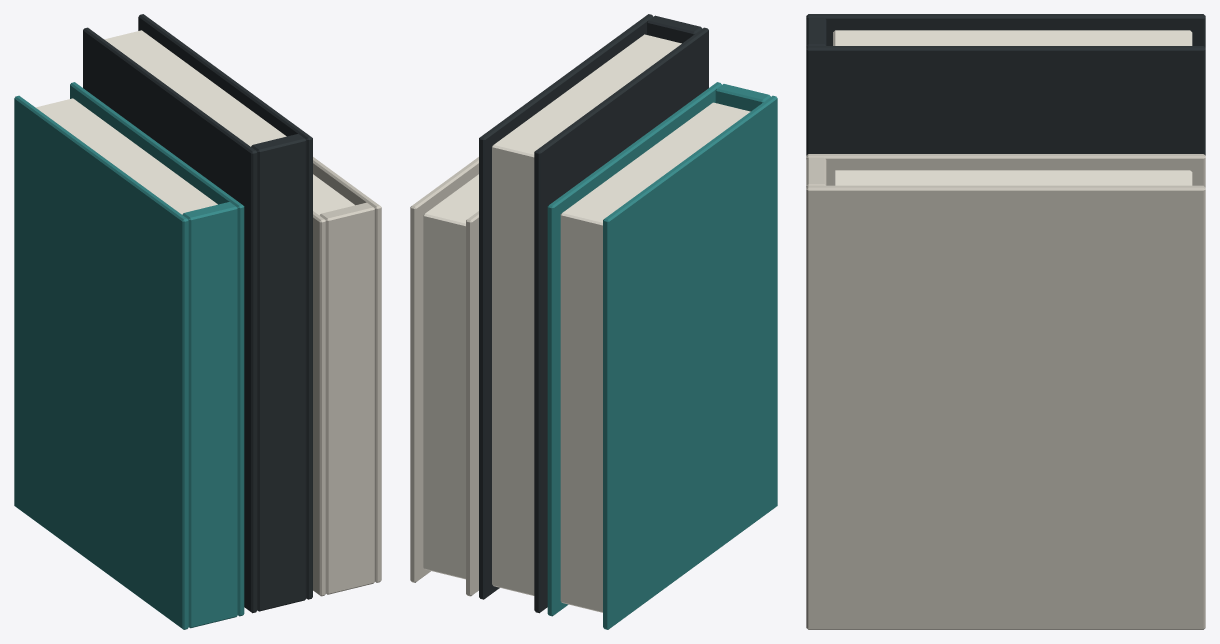
File: book_binder_set.glb
3 views of the same model, side by side, from view 1: azimuth 30°, elevation 25°; view 2: azimuth 150°, elevation 25°; view 3: azimuth 270°, elevation 25° (orthographic). The views are drawn at different scales.
Visible parts, largest first — view 1: books_and_binders; view 2: books_and_binders; view 3: books_and_binders.
Part boxes in pixels (x1,y1,x2,y2): books_and_binders: (14, 14, 381, 629); books_and_binders: (410, 14, 777, 629); books_and_binders: (806, 14, 1205, 629).
Bounding box in the file's own units: 0.122 × 0.27 × 0.18.
